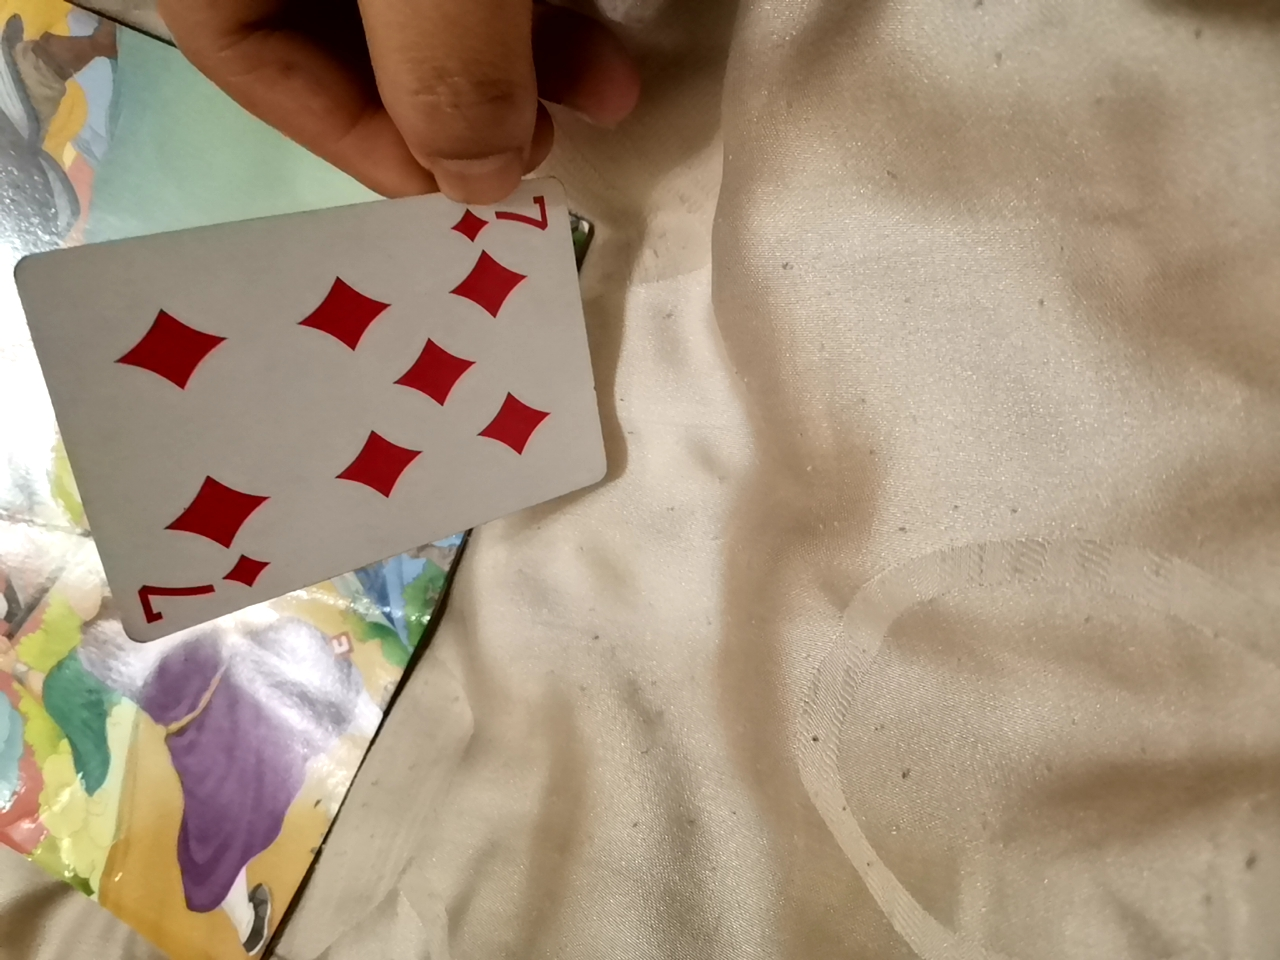fk 7: (117, 173, 588, 571)
